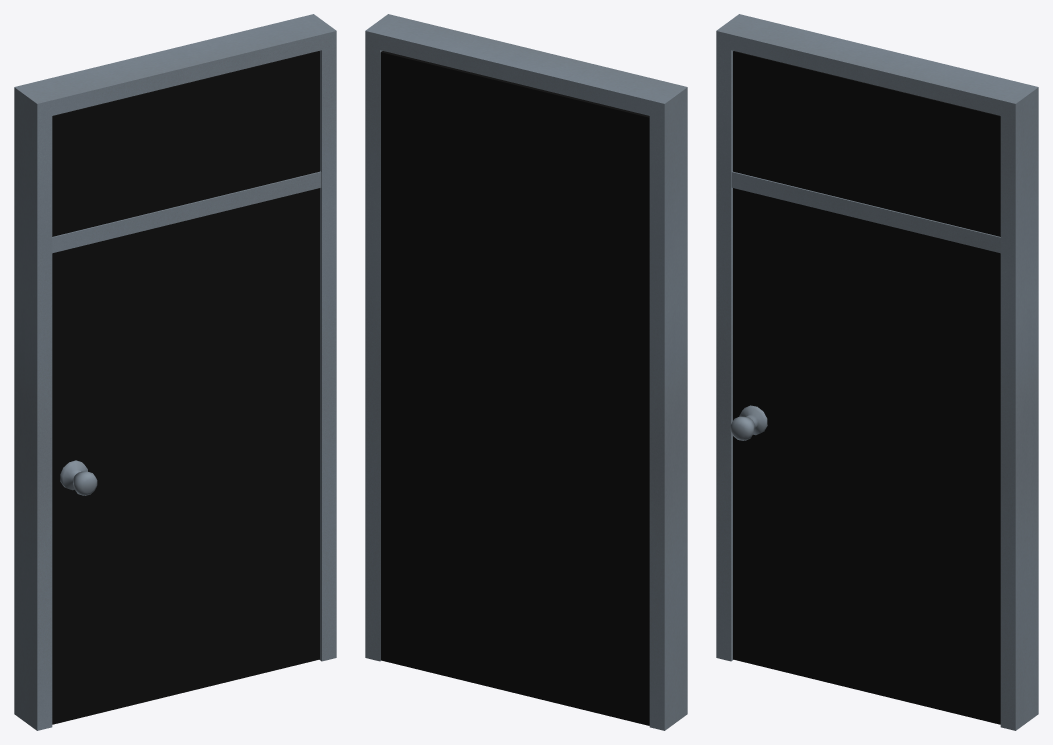
File: PuertaHabitacion.fbx
3 views of the same model, side by side, from view 1: azimuth 30°, elevation 25°; view 2: azimuth 150°, elevation 25°; view 3: azimuth 330°, elevation 25° (orthographic).
Visible parts, largest first — view 1: PuertaPlasticoNegro.001; view 2: PuertaPlasticoNegro.001; view 3: PuertaPlasticoNegro.001.
Part boxes in pixels (x1,y1,x2,y2): PuertaPlasticoNegro.001: (14,14,336,730); PuertaPlasticoNegro.001: (365,14,687,730); PuertaPlasticoNegro.001: (716,14,1038,730).
Bounding box in the file's own units: 130 × 260 × 28.58.
